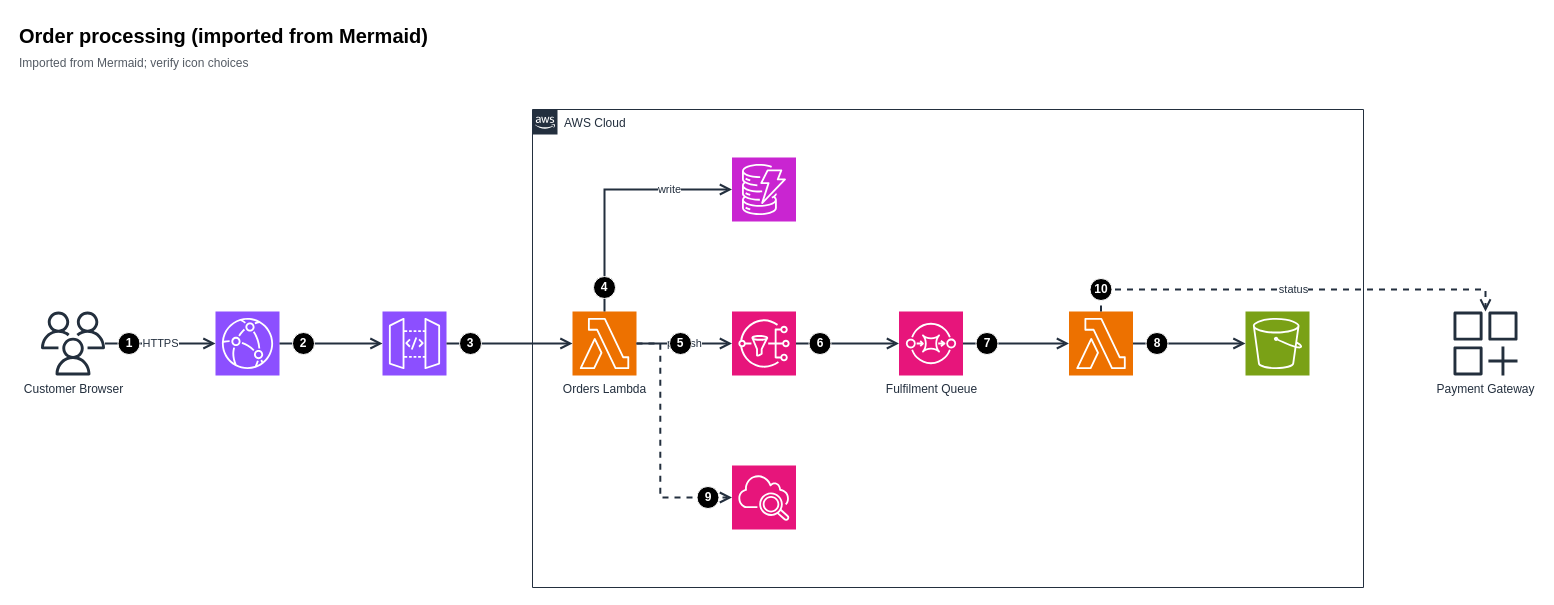
The diagram is 1554 pixels wide and 605 high, and some of its shapes have lost their labels. The box of each missing label's shape, as (x1, y1, x2, y2) in pixels:
API Gateway: (382, 310, 446, 376)
CloudFront CDN: (214, 310, 280, 376)
CloudWatch Logs: (731, 464, 796, 530)
Fulfilment Worker Function: (1068, 310, 1133, 376)
Order Events SNS: (731, 310, 796, 376)
Orders DynamoDB: (731, 156, 796, 222)
Receipts S3 Bucket: (1244, 310, 1310, 376)
